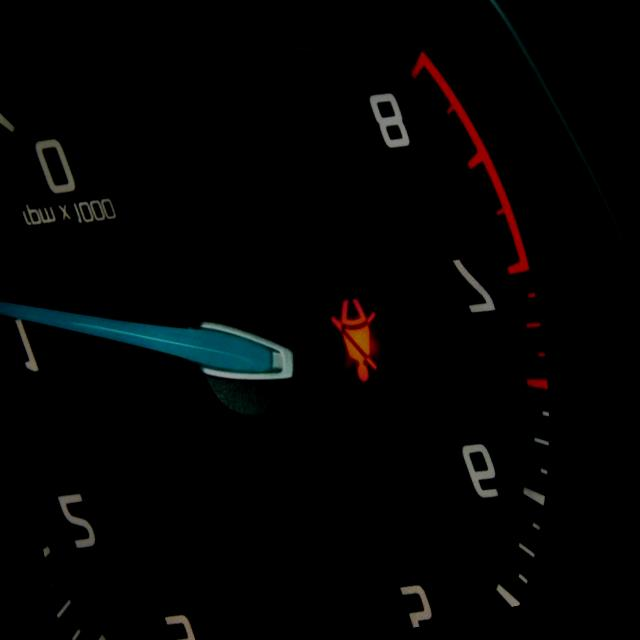kontrolka: (317, 282, 399, 402)
